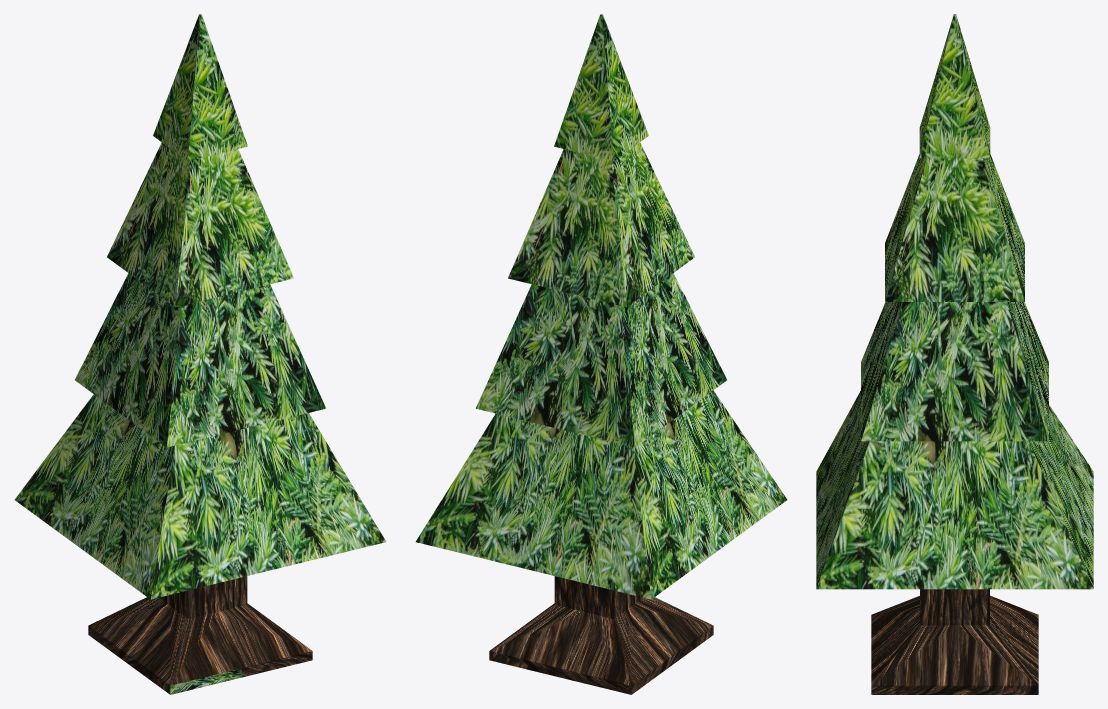
Rendered from simple_tree.obj.
The picture shows the model from 3 angles, left to right: view 1: azimuth 30°, elevation 25°; view 2: azimuth 150°, elevation 25°; view 3: azimuth 270°, elevation 25°; orthographic projection.
Visible parts, largest first — view 1: Cube, Cube.001; view 2: Cube, Cube.001; view 3: Cube, Cube.001.
Part boxes in pixels (x1=…): Cube: x1=14, y1=14, x2=386, y2=694; Cube.001: x1=88, y1=576, x2=312, y2=694; Cube: x1=416, y1=14, x2=787, y2=599; Cube.001: x1=489, y1=576, x2=713, y2=694; Cube: x1=816, y1=14, x2=1093, y2=589; Cube.001: x1=871, y1=589, x2=1038, y2=694.
Size of the model in its own units: 2 by 5.13 by 2.
